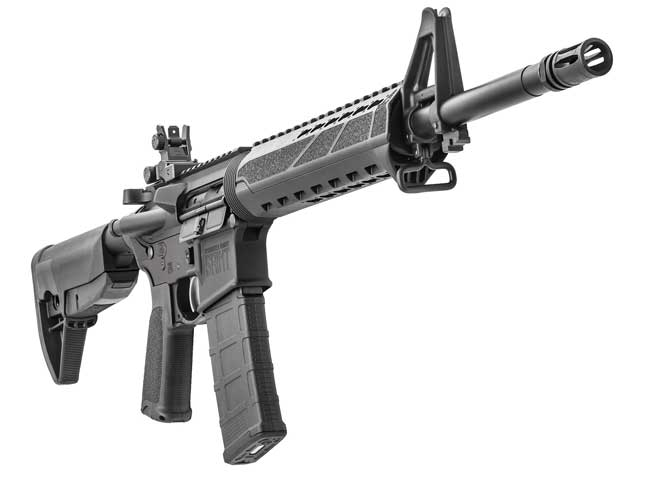Gun: (108, 76, 491, 316)
